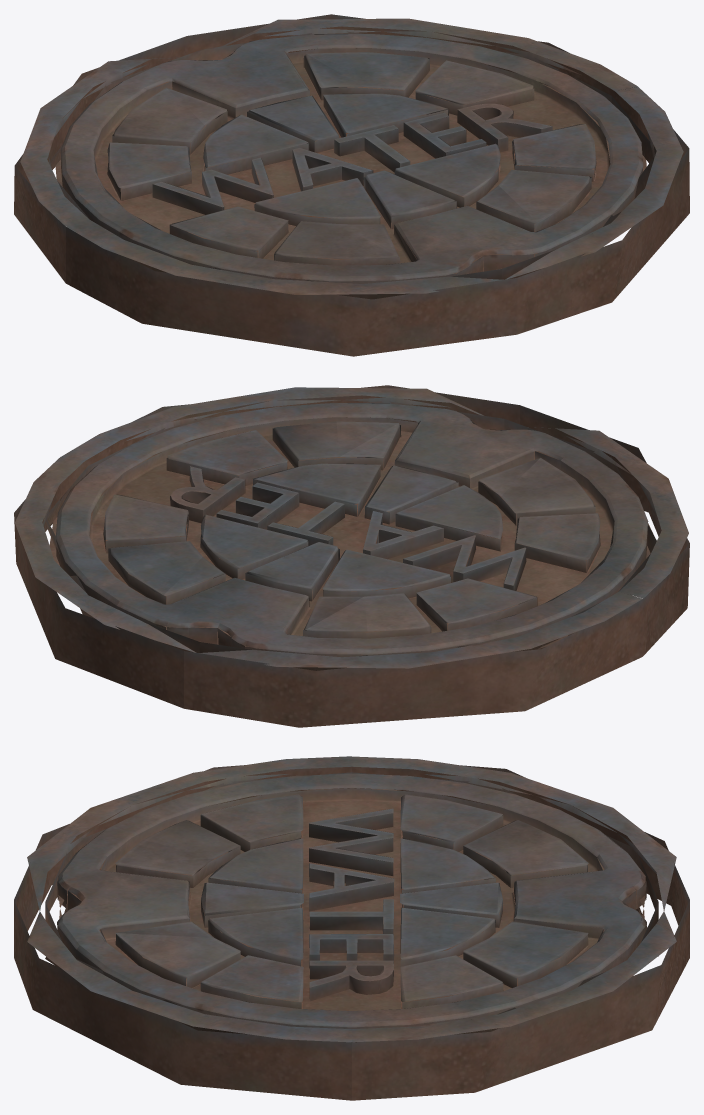
Rendered from manhole.glb.
3 renders of one model, top to bottom at view 1: azimuth 30°, elevation 25°; view 2: azimuth 150°, elevation 25°; view 3: azimuth 270°, elevation 25°, orthographic. The views are drawn at different scales.
Parts seen in each view (by area): view 1: water_manhole_cover, water_manhole_cover_frame; view 2: water_manhole_cover, water_manhole_cover_frame; view 3: water_manhole_cover, water_manhole_cover_frame.
Part boxes in pixels (<box>): water_manhole_cover: <box>60,34,643,283</box>; water_manhole_cover_frame: <box>14,14,689,356</box>; water_manhole_cover: <box>55,403,648,657</box>; water_manhole_cover_frame: <box>14,385,689,727</box>; water_manhole_cover: <box>57,773,646,1028</box>; water_manhole_cover_frame: <box>14,756,689,1100</box>.
Size of the model in its own units: 0.6916 by 0.0681 by 0.6908.
1 material, 1 textured.
